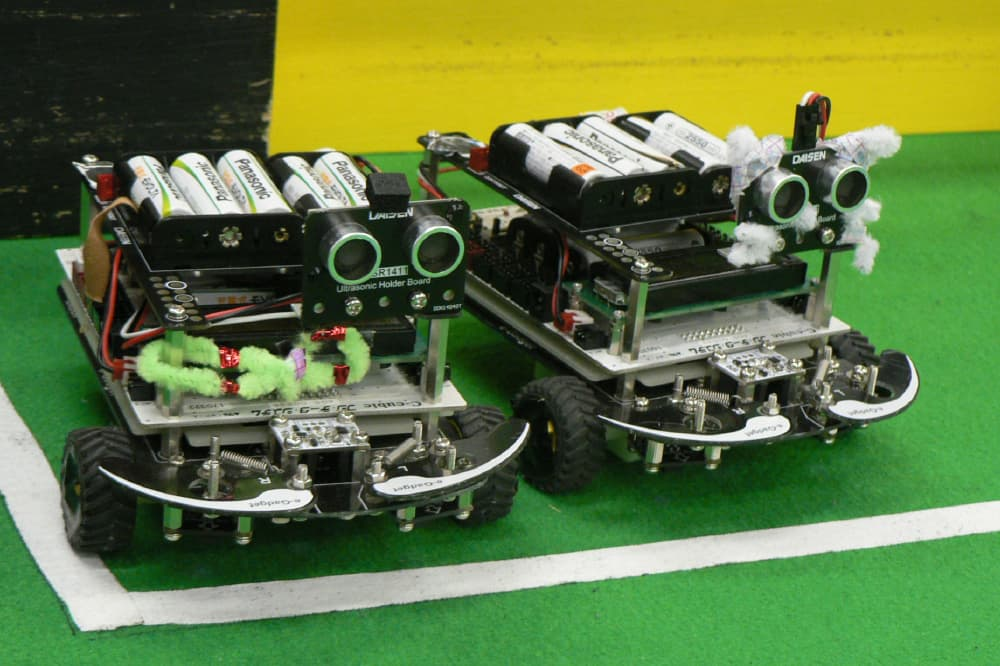Robot: (24, 138, 499, 560), (429, 91, 924, 489)
